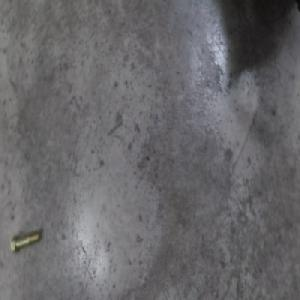Bolt: (14, 228, 43, 253)
